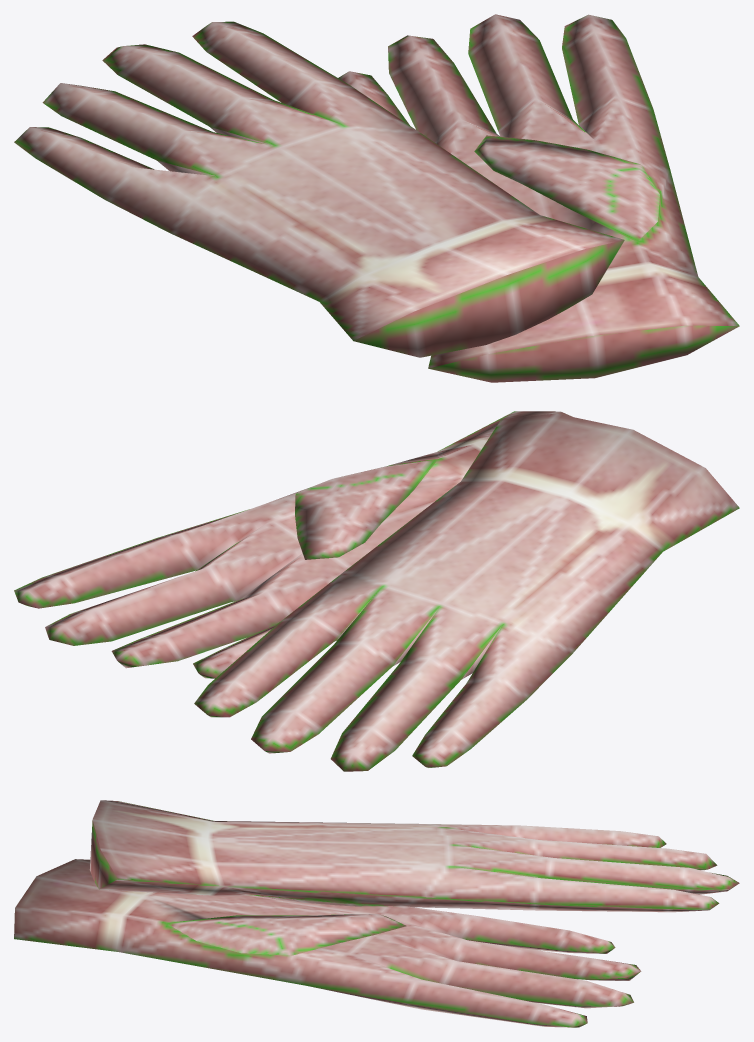
File: JiaMianWuHuiXianChang_01_shoutao_01.FBX
3 renders of one model, top to bottom at view 1: azimuth 30°, elevation 25°; view 2: azimuth 150°, elevation 25°; view 3: azimuth 270°, elevation 25°, orthographic. The views are drawn at different scales.
Parts seen in each view (by area): view 1: JiaMianWuHuiXianChang_01_shoutao_01; view 2: JiaMianWuHuiXianChang_01_shoutao_01; view 3: JiaMianWuHuiXianChang_01_shoutao_01.
Boxes of the visible parts, box(x1,y1,x2,y2) form: JiaMianWuHuiXianChang_01_shoutao_01: box(14, 14, 739, 382); JiaMianWuHuiXianChang_01_shoutao_01: box(14, 411, 739, 771); JiaMianWuHuiXianChang_01_shoutao_01: box(14, 800, 739, 1027).
Size of the model in its own units: 112 by 20.05 by 161.
1 material, 1 textured.
